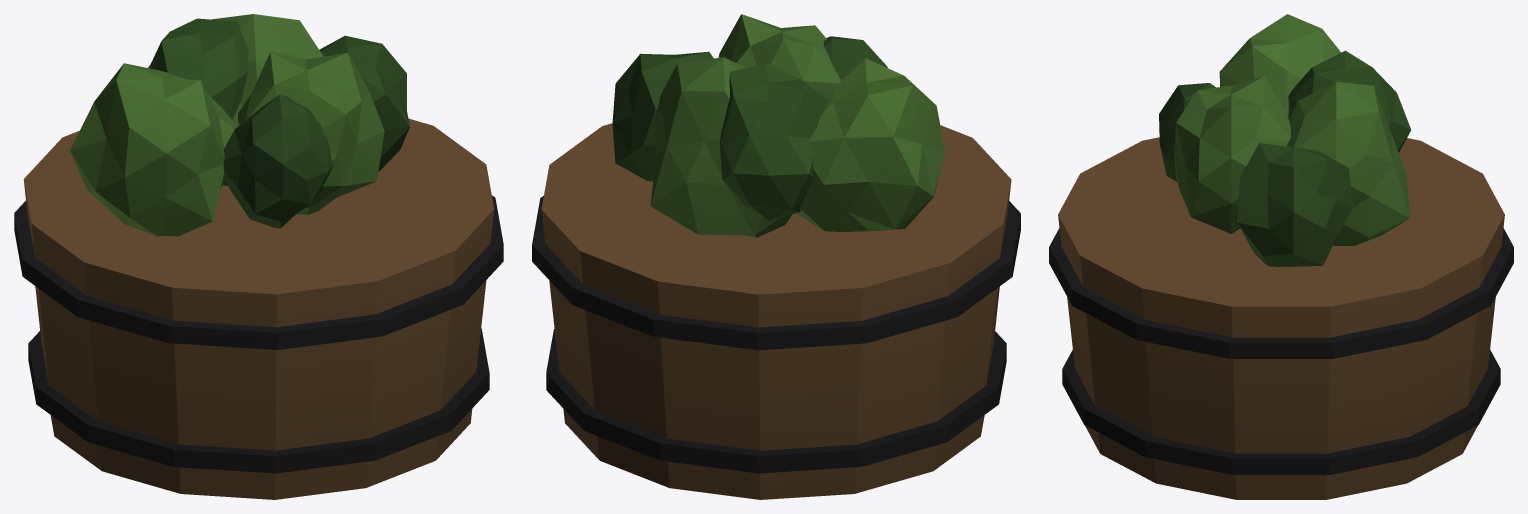
The model's file is planter_tub.glb.
3 renders of one model, left to right at view 1: azimuth 30°, elevation 25°; view 2: azimuth 150°, elevation 25°; view 3: azimuth 270°, elevation 25°, orthographic. The views are drawn at different scales.
Visible parts, largest first — view 1: planter_tub; view 2: planter_tub; view 3: planter_tub.
Boxes of the visible parts, x1=… form: planter_tub: x1=14, y1=14, x2=503, y2=499; planter_tub: x1=532, y1=14, x2=1020, y2=499; planter_tub: x1=1049, y1=14, x2=1513, y2=499.
Size of the model in its own units: 1.01 by 0.8547 by 1.04.
